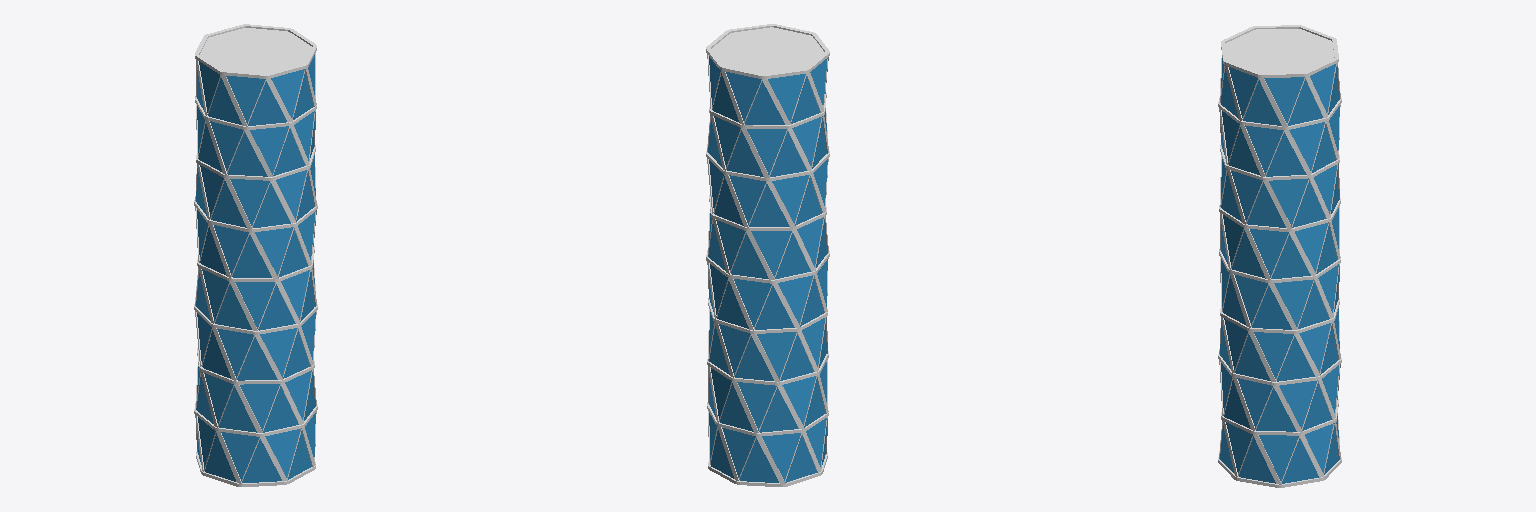
File: HouseRound.obj
3 renders of one model, left to right at view 1: azimuth 30°, elevation 25°; view 2: azimuth 150°, elevation 25°; view 3: azimuth 270°, elevation 25°, orthographic.
Parts seen in each view (by area): view 1: NGon022, NGon035, NGon019, NGon031, NGon033, NGon029, NGon027, NGon024, NGon036, NGon034, Line037, Line045 (+12 smaller); view 2: NGon027, NGon024, NGon035, NGon031, NGon022, NGon019, NGon029, NGon033, NGon036, NGon034, Line043, Line037 (+11 smaller); view 3: NGon019, NGon033, NGon031, NGon029, NGon027, NGon024, NGon022, NGon035, NGon036, NGon034, Line049, Line041 (+13 smaller).
Part boxes in pixels (bbox=[...]): NGon022: bbox=[197, 413, 315, 482]; NGon035: bbox=[197, 55, 314, 125]; NGon019: bbox=[197, 312, 315, 380]; NGon031: bbox=[196, 155, 315, 227]; NGon033: bbox=[197, 106, 314, 176]; NGon029: bbox=[197, 210, 315, 277]; NGon027: bbox=[196, 263, 314, 330]; NGon024: bbox=[196, 366, 314, 432]; NGon036: bbox=[200, 28, 311, 73]; NGon034: bbox=[195, 24, 316, 78]; Line037: bbox=[195, 365, 316, 432]; Line045: bbox=[195, 163, 316, 228]; NGon027: bbox=[708, 259, 827, 329]; NGon024: bbox=[709, 362, 826, 432]; NGon035: bbox=[709, 56, 827, 124]; NGon031: bbox=[709, 159, 827, 226]; NGon022: bbox=[709, 413, 826, 482]; NGon019: bbox=[709, 312, 826, 380]; NGon029: bbox=[708, 213, 826, 278]; NGon033: bbox=[708, 111, 826, 176]; NGon036: bbox=[711, 27, 824, 73]; NGon034: bbox=[706, 24, 829, 78]; Line043: bbox=[707, 212, 828, 279]; Line037: bbox=[707, 366, 828, 432]; NGon019: bbox=[1220, 308, 1339, 381]; NGon033: bbox=[1221, 106, 1339, 176]; NGon031: bbox=[1221, 159, 1338, 227]; NGon029: bbox=[1221, 208, 1338, 278]; NGon027: bbox=[1221, 259, 1338, 329]; NGon024: bbox=[1221, 363, 1338, 431]; NGon022: bbox=[1220, 416, 1338, 483]; NGon035: bbox=[1221, 58, 1338, 125]; NGon036: bbox=[1226, 29, 1333, 72]; NGon034: bbox=[1221, 25, 1338, 77]; Line049: bbox=[1219, 58, 1340, 126]; Line041: bbox=[1220, 257, 1339, 329].
Bounding box in the file's own units: 6.16 × 22.57 × 6.16.